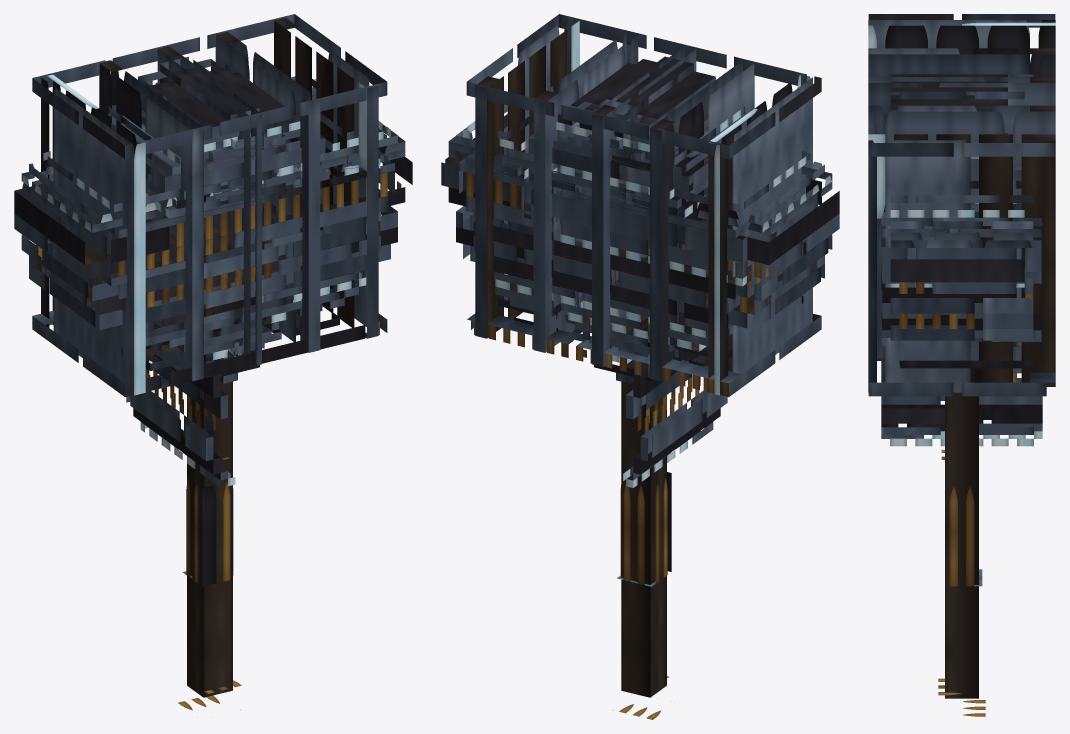
File: thunderhead.obj
3 views of the same model, side by side, from view 1: azimuth 30°, elevation 25°; view 2: azimuth 150°, elevation 25°; view 3: azimuth 270°, elevation 25° (orthographic).
Visible parts, largest first — view 1: lit, fire; view 2: lit, fire; view 3: lit, fire.
Part boxes in pixels (box(x1,y1,x2,y2)): lit: box(14, 14, 412, 710); fire: box(126, 167, 329, 487); lit: box(441, 14, 839, 719); fire: box(524, 167, 727, 487); lit: box(868, 14, 1055, 716); fire: box(881, 203, 1042, 446).
Bounding box in the file's own units: 1.41 × 2.57 × 0.6907.
